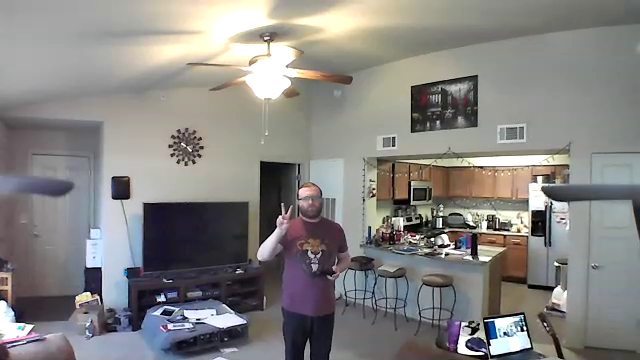peace: (273, 201, 298, 231)
